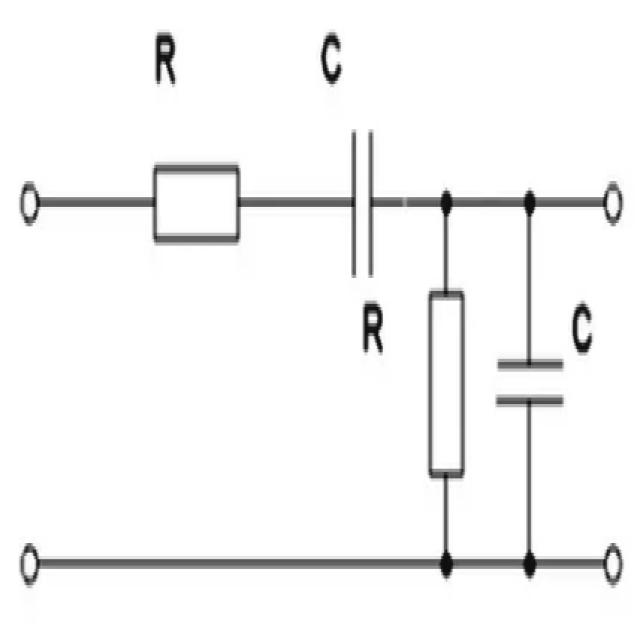cap: (493, 342, 570, 420), (346, 119, 381, 287)
net: (40, 179, 160, 220), (234, 185, 356, 219)
net_node: (39, 542, 603, 590), (367, 186, 605, 224), (520, 391, 540, 589), (521, 182, 540, 367), (439, 465, 456, 586), (437, 182, 452, 304)
res: (150, 156, 246, 253), (424, 278, 468, 485)
